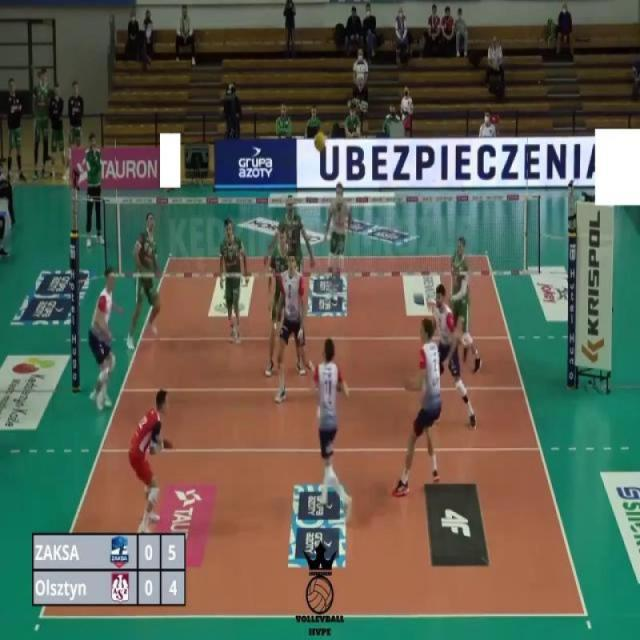volleyball: (313, 130, 327, 153)
